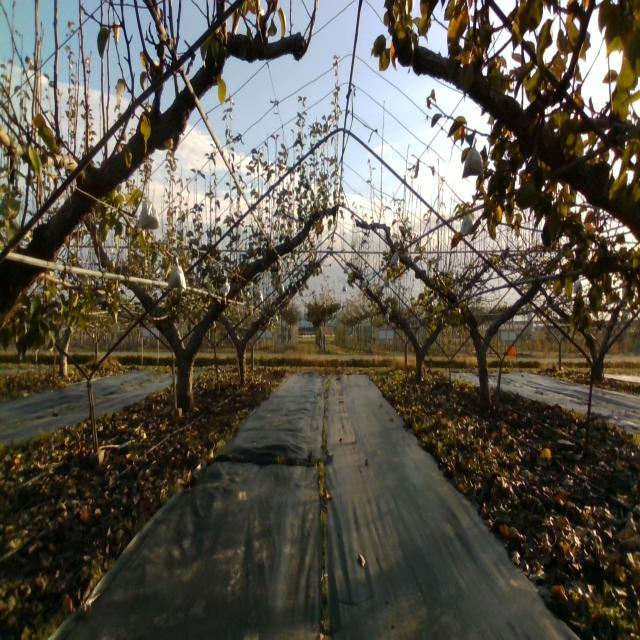pearbags: (460, 136, 484, 179), (136, 197, 161, 233), (168, 255, 188, 292), (460, 215, 474, 237)
